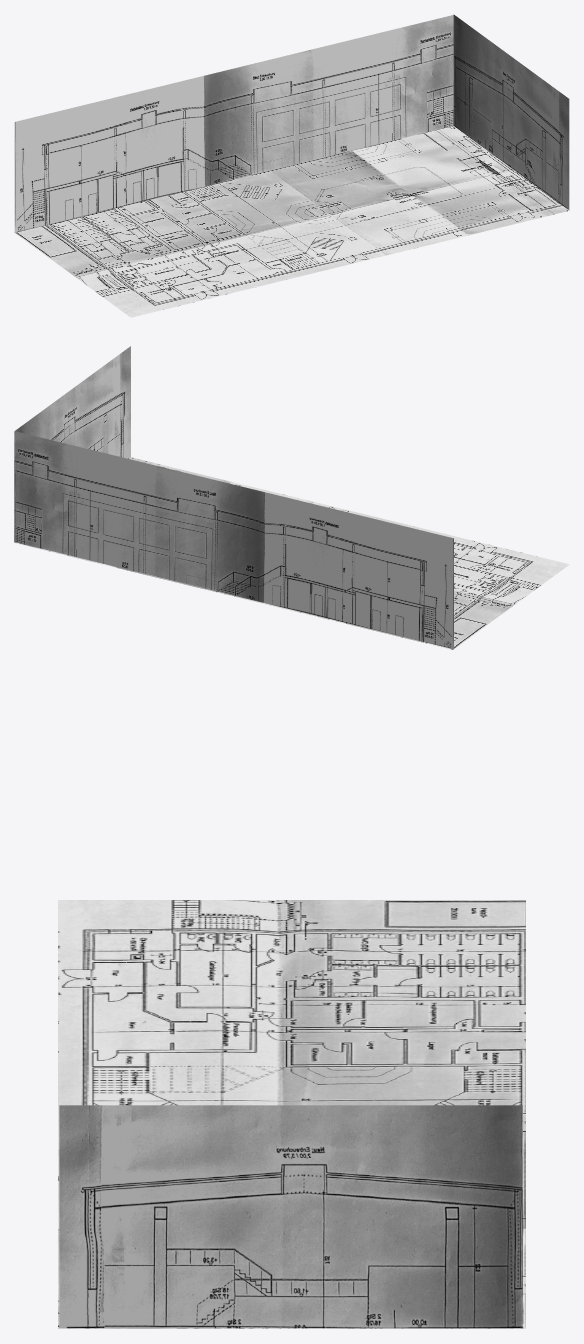
File: blueprints_v02.fbx
The picture shows the model from 3 angles, top to bottom: view 1: azimuth 30°, elevation 25°; view 2: azimuth 150°, elevation 25°; view 3: azimuth 270°, elevation 25°; orthographic projection. The views are drawn at different scales.
Visible parts, largest first — view 1: grundriss_geo, aufriss_geo, frontriss_geo; view 2: aufriss_geo, grundriss_geo, frontriss_geo; view 3: frontriss_geo, grundriss_geo.
Part boxes in pixels (left/top/right/bottom): grundriss_geo: left=14, top=126, right=569, bottom=317; aufriss_geo: left=14, top=15, right=453, bottom=232; frontriss_geo: left=453, top=14, right=569, bottom=209; aufriss_geo: left=14, top=431, right=453, bottom=649; grundriss_geo: left=14, top=457, right=569, bottom=649; frontriss_geo: left=15, top=346, right=130, bottom=541; frontriss_geo: left=59, top=1105, right=522, bottom=1328; grundriss_geo: left=58, top=900, right=525, bottom=1328.
Bounding box in the file's own units: 4664 × 1135 × 2149.
Materials: 3 (3 with a texture image).
